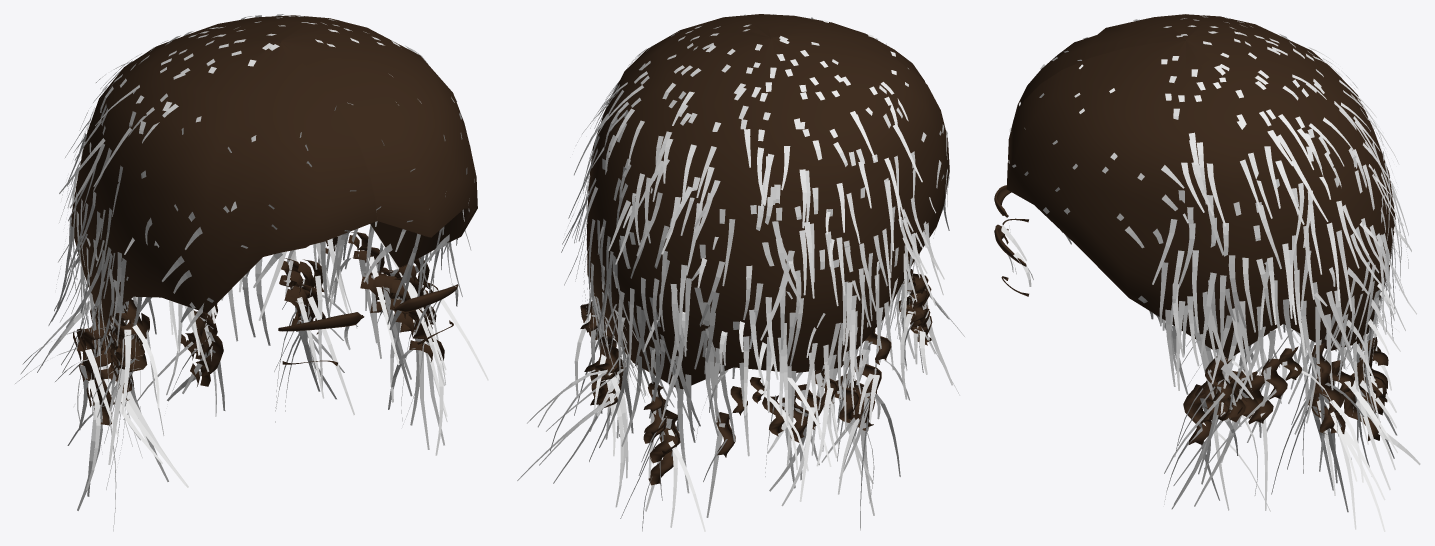
File: hair-huscarl-short.glb
3 renders of one model, left to right at view 1: azimuth 30°, elevation 25°; view 2: azimuth 150°, elevation 25°; view 3: azimuth 270°, elevation 25°, orthographic. The views are drawn at different scales.
Parts seen in each view (by area): view 1: hair-huscarl-short_1, hair__strands; view 2: hair-huscarl-short_1, hair__strands; view 3: hair-huscarl-short_1, hair__strands.
Part boxes in pixels (box(x1,y1,x2,y2)): hair-huscarl-short_1: box(71, 15, 477, 425); hair__strands: box(15, 14, 488, 531); hair-huscarl-short_1: box(580, 14, 949, 485); hair__strands: box(517, 14, 964, 531); hair-huscarl-short_1: box(994, 14, 1395, 444); hair__strands: box(1001, 14, 1420, 531).
Bounding box in the file's own units: 0.2416 × 0.2836 × 0.2515.
